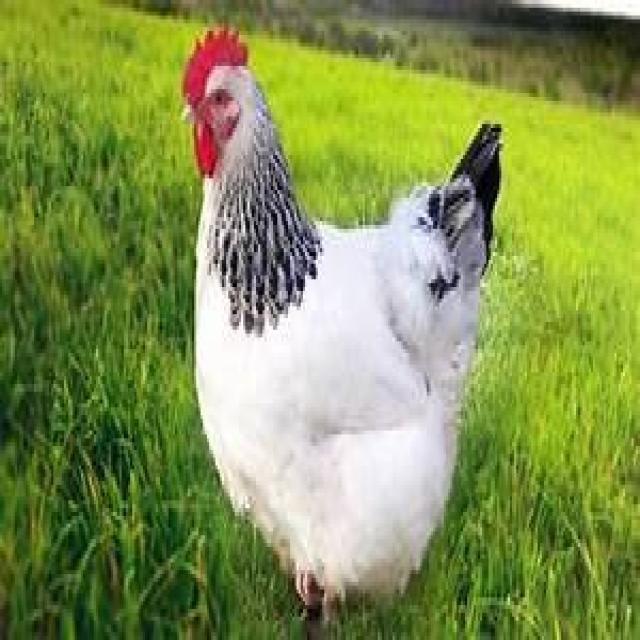hen: (182, 30, 501, 608)
